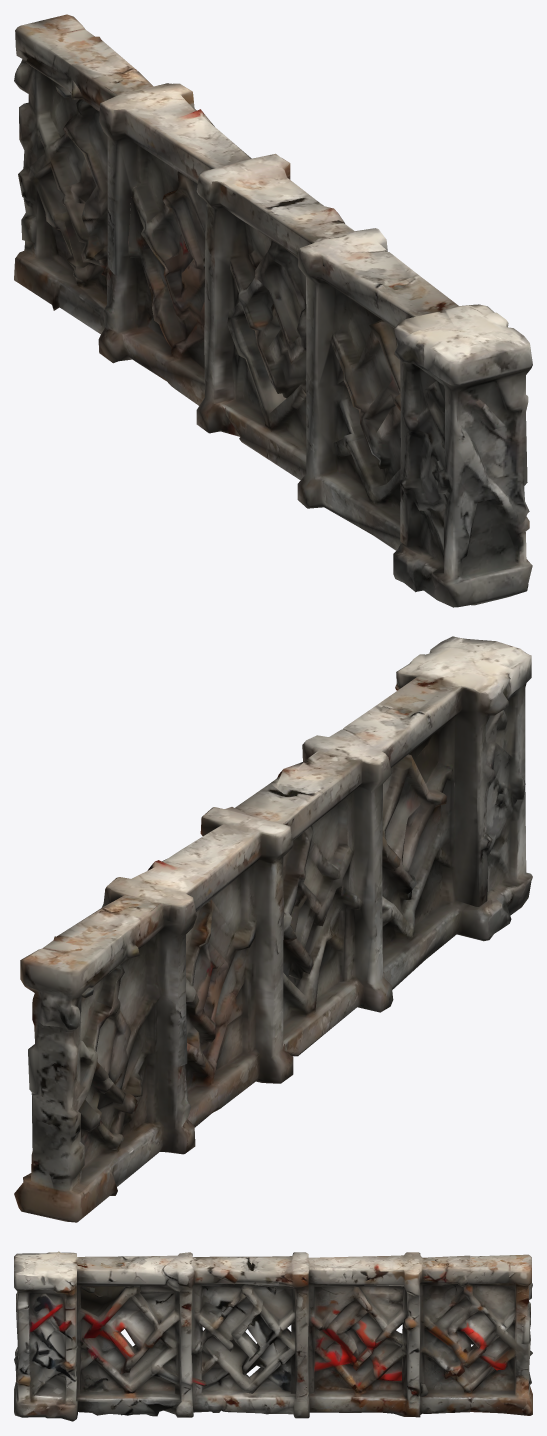
The model's file is fence_section.glb.
3 renders of one model, top to bottom at view 1: azimuth 30°, elevation 25°; view 2: azimuth 150°, elevation 25°; view 3: azimuth 270°, elevation 25°, orthographic. The views are drawn at different scales.
Parts seen in each view (by area): view 1: tripo_node_a727f76e-8c13-4ab5-a3b6-a095299ee6d9; view 2: tripo_node_a727f76e-8c13-4ab5-a3b6-a095299ee6d9; view 3: tripo_node_a727f76e-8c13-4ab5-a3b6-a095299ee6d9.
Part boxes in pixels (box(x1,y1,x2,y2)): tripo_node_a727f76e-8c13-4ab5-a3b6-a095299ee6d9: box(14, 14, 532, 607); tripo_node_a727f76e-8c13-4ab5-a3b6-a095299ee6d9: box(14, 636, 532, 1222); tripo_node_a727f76e-8c13-4ab5-a3b6-a095299ee6d9: box(14, 1251, 532, 1421).
Size of the model in its own units: 0.345 by 0.8 by 2.56.
1 material, 1 textured.
